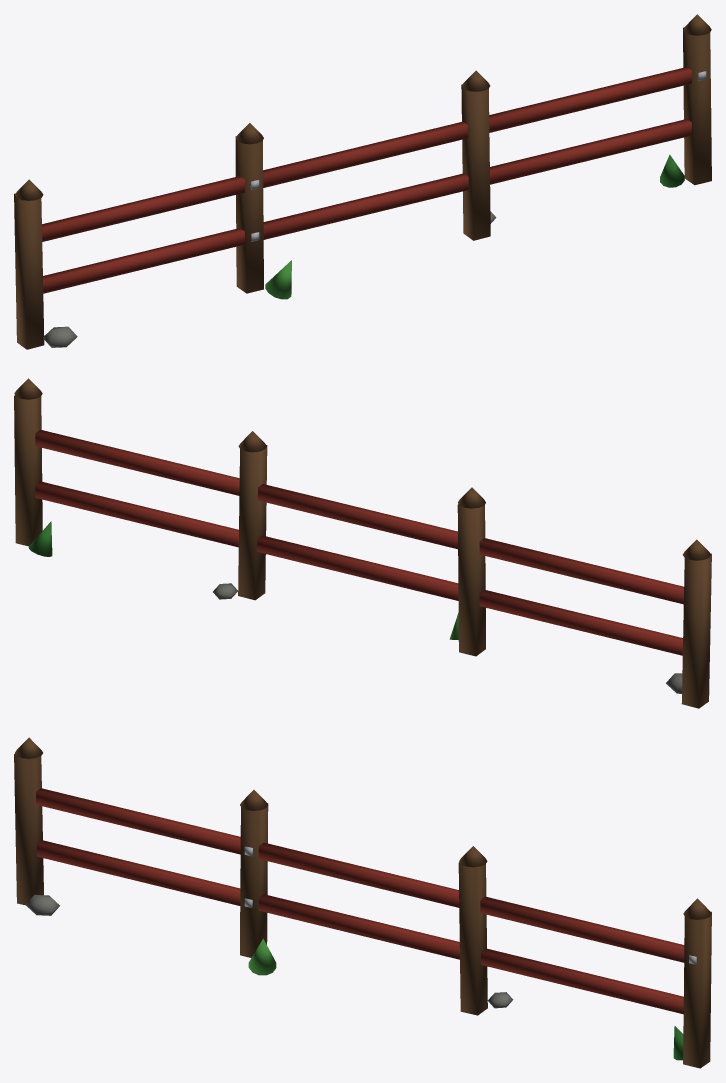
File: fence_run.glb
The picture shows the model from 3 angles, top to bottom: view 1: azimuth 30°, elevation 25°; view 2: azimuth 150°, elevation 25°; view 3: azimuth 330°, elevation 25°; orthographic projection.
Parts seen in each view (by area): view 1: fence_run; view 2: fence_run; view 3: fence_run.
Part boxes in pixels (box(x1,y1,x2,y2)): fence_run: box(14, 14, 711, 349); fence_run: box(14, 378, 711, 708); fence_run: box(14, 737, 711, 1068).
Size of the model in its own units: 5.6 by 1.31 by 0.4327.
